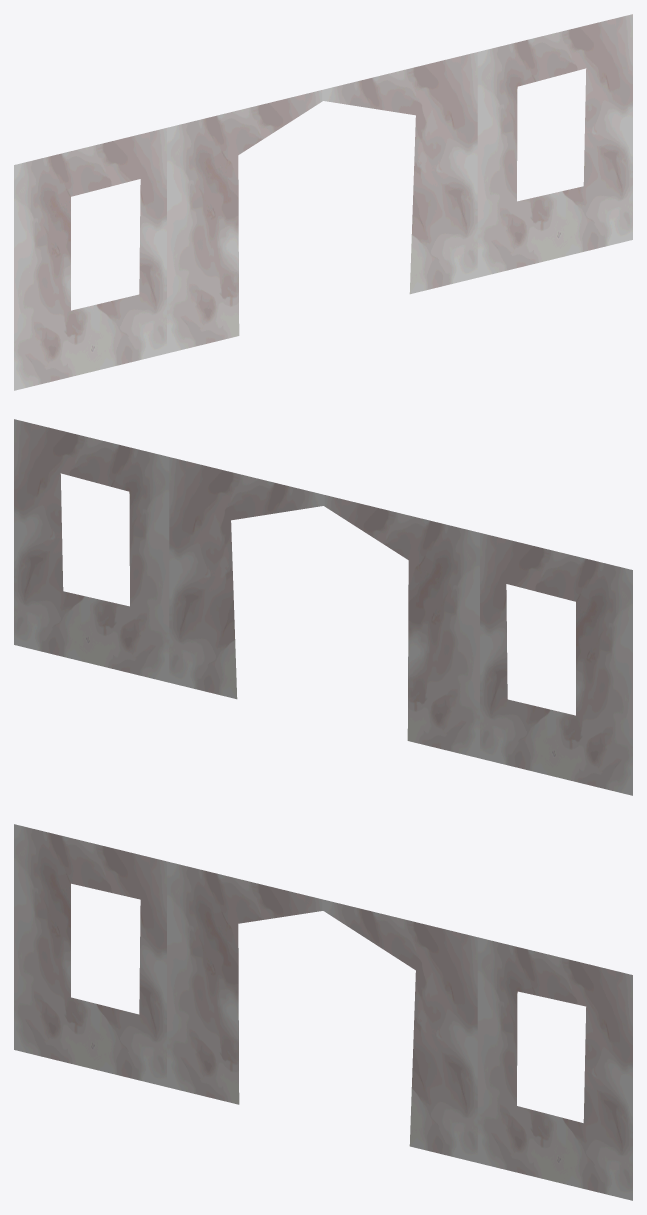
The model's file is W_AI3_fOf [GelbeFlecken]_1901.glb.
3 views of the same model, one above another, from view 1: azimuth 30°, elevation 25°; view 2: azimuth 150°, elevation 25°; view 3: azimuth 330°, elevation 25° (orthographic).
Parts seen in each view (by area): view 1: polySurfaceShape771; view 2: polySurfaceShape771; view 3: polySurfaceShape771.
Boxes of the visible parts, x1,y1,x2,y2 form: polySurfaceShape771: [14, 14, 632, 390]; polySurfaceShape771: [14, 419, 632, 795]; polySurfaceShape771: [14, 824, 632, 1200].
Bounding box in the file's own units: 1 × 0.3486 × 1.52e-08.
Materials: 1 (1 with a texture image).
